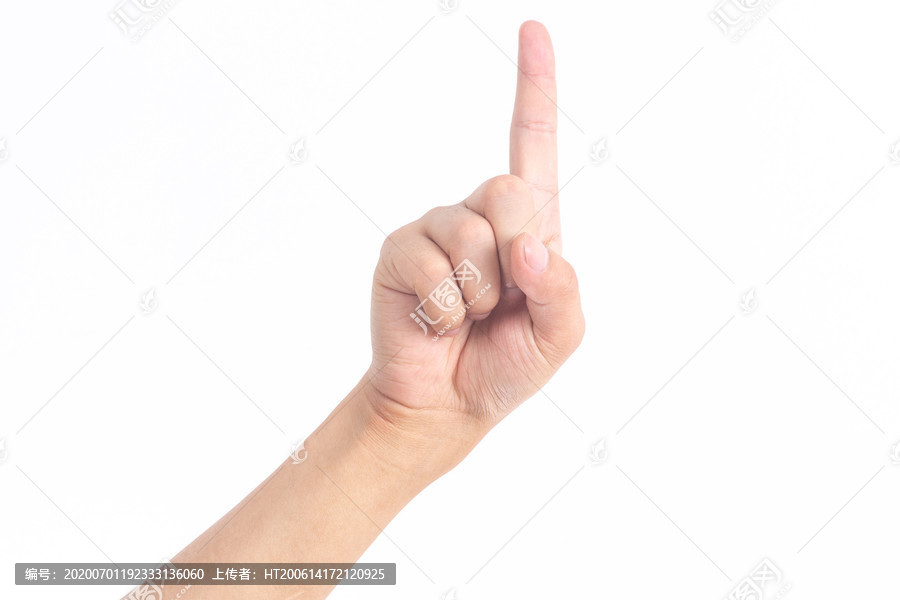no-phone: (337, 12, 630, 440)
